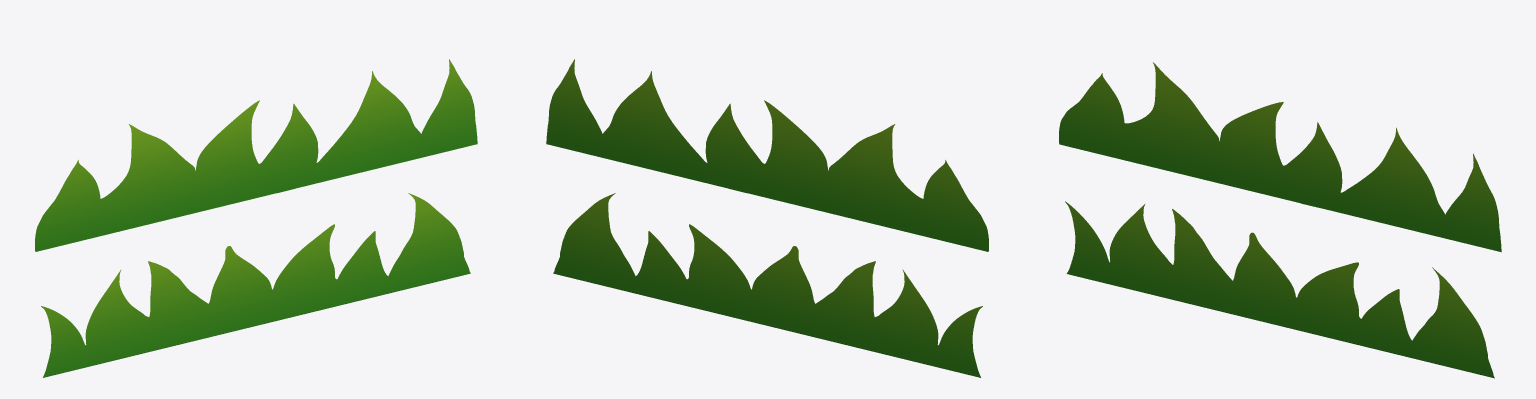
Rendered from Grass01.fbx.
The picture shows the model from 3 angles, left to right: view 1: azimuth 30°, elevation 25°; view 2: azimuth 150°, elevation 25°; view 3: azimuth 330°, elevation 25°; orthographic projection.
Visible parts, largest first — view 1: Grass01; view 2: Grass01; view 3: Grass01.
Boxes of the visible parts, bbox=[...] form: Grass01: bbox=[35, 59, 477, 377]; Grass01: bbox=[546, 59, 988, 377]; Grass01: bbox=[1059, 62, 1501, 378].
Size of the model in its own units: 100 by 50 by 0.
